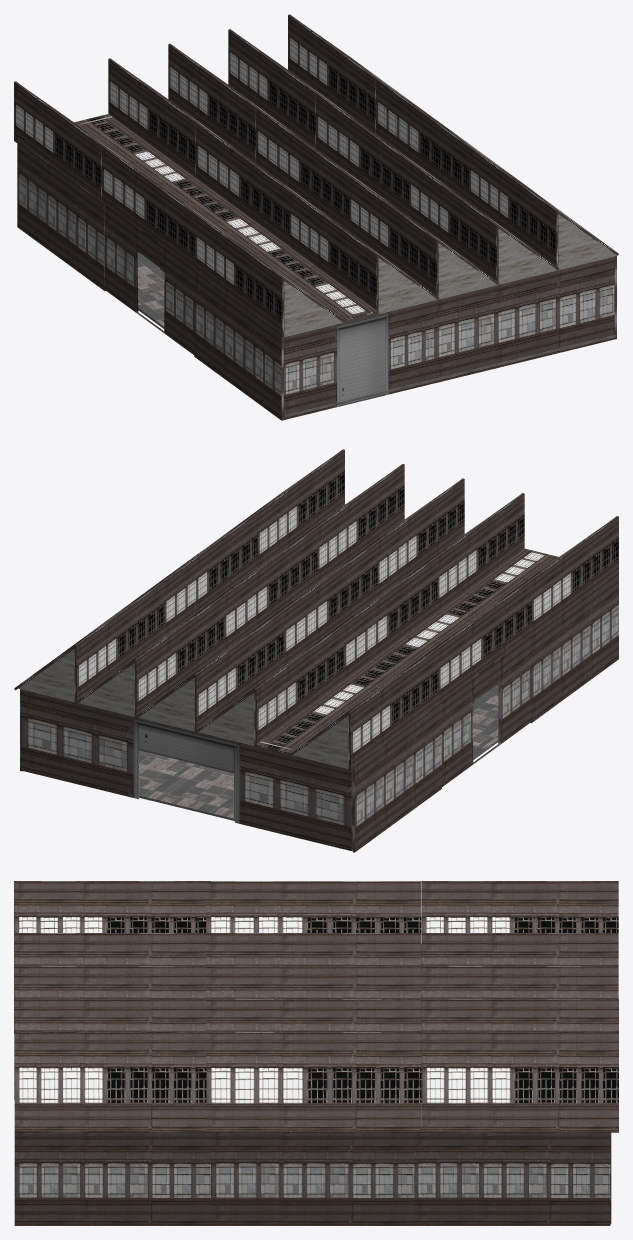
Rendered from warehouse_building_1.glb.
The picture shows the model from 3 angles, top to bottom: view 1: azimuth 30°, elevation 25°; view 2: azimuth 150°, elevation 25°; view 3: azimuth 270°, elevation 25°; orthographic projection. The views are drawn at different scales.
Parts seen in each view (by area): view 1: Factory002_WindowsIndustrial-frontSolid-OpenWindows_Mat_0, Factory002_WindowsIndustrial-frontSolid_Mat_0, Factory002_WindowsIndustrial-frontDoorclosed_Mat_0, Factory002_11 - Default_0, Factory002_WindowsIndustrial-front_Mat_0, Object001_20 - Default_0; view 2: Factory002_WindowsIndustrial-frontSolid-OpenWindows_Mat_0, Factory002_WindowsIndustrial-frontDoorOpen_Mat_0, Factory002_WindowsIndustrial-frontSolid_Mat_0, Factory002_11 - Default_0, Factory002_WindowsIndustrial-front_Mat_0, Object001_20 - Default_0; view 3: Factory002_WindowsIndustrial-frontSolid-OpenWindows_Mat_0, Factory002_WindowsIndustrial-frontSolid_Mat_0.
Part boxes in pixels (x1,y1,x2,y2): Factory002_WindowsIndustrial-frontSolid-OpenWindows_Mat_0: (14, 14, 618, 337); Factory002_WindowsIndustrial-frontSolid_Mat_0: (17, 140, 616, 420); Factory002_WindowsIndustrial-frontDoorclosed_Mat_0: (284, 301, 434, 419); Factory002_11 - Default_0: (283, 214, 617, 337); Factory002_WindowsIndustrial-front_Mat_0: (105, 203, 194, 354); Object001_20 - Default_0: (137, 253, 615, 417); Factory002_WindowsIndustrial-frontSolid-OpenWindows_Mat_0: (14, 449, 618, 771); Factory002_WindowsIndustrial-frontDoorOpen_Mat_0: (20, 683, 352, 850); Factory002_WindowsIndustrial-frontSolid_Mat_0: (20, 573, 618, 852); Factory002_11 - Default_0: (18, 649, 348, 768); Factory002_WindowsIndustrial-front_Mat_0: (441, 635, 531, 786); Object001_20 - Default_0: (139, 685, 498, 820); Factory002_WindowsIndustrial-frontSolid-OpenWindows_Mat_0: (14, 881, 618, 1132); Factory002_WindowsIndustrial-frontSolid_Mat_0: (14, 944, 610, 1225).
Size of the model in its own units: 16.38 by 6.63 by 22.58.
7 materials, 7 textured.
